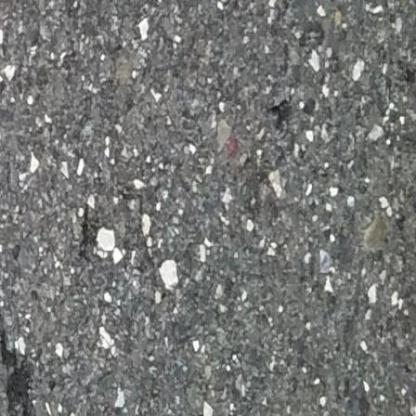Cracks: (0, 316, 35, 416)
